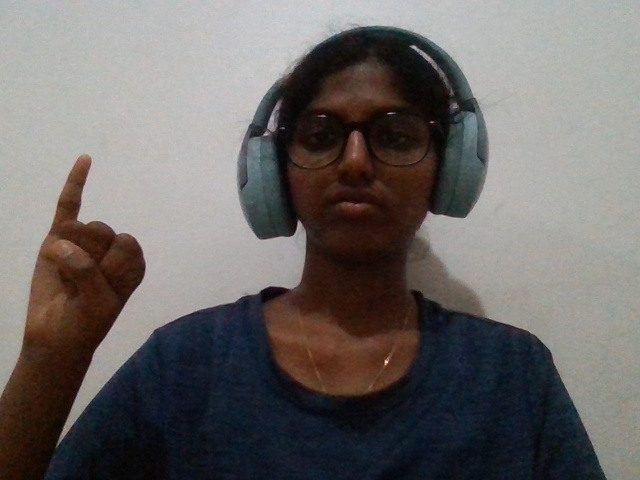I: (8, 138, 160, 372)
